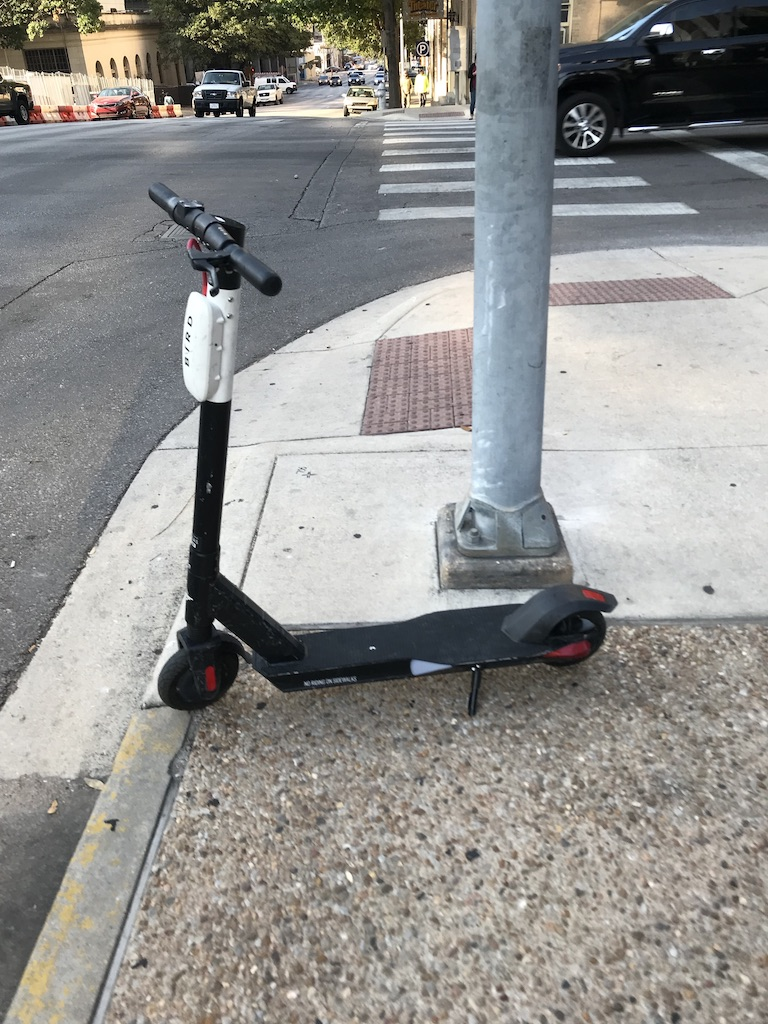scooter: (147, 182, 616, 712)
